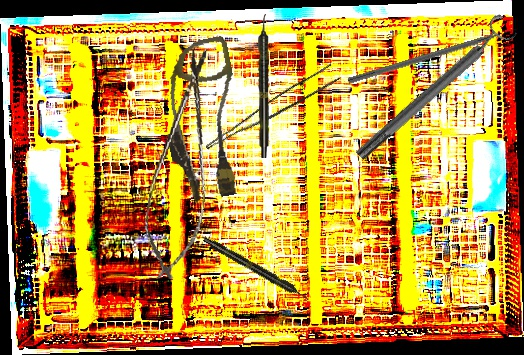Cannula: (150, 35, 256, 205)
Fixation Ring: (347, 11, 520, 168)
Handpiece: (201, 234, 311, 304), (258, 14, 270, 158)
Hook Surgical: (347, 26, 520, 86)
Micro Scissor: (137, 43, 226, 285)
Tissue Forceps: (205, 59, 341, 165)
